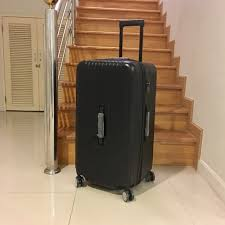luggage: (26, 16, 212, 202)
